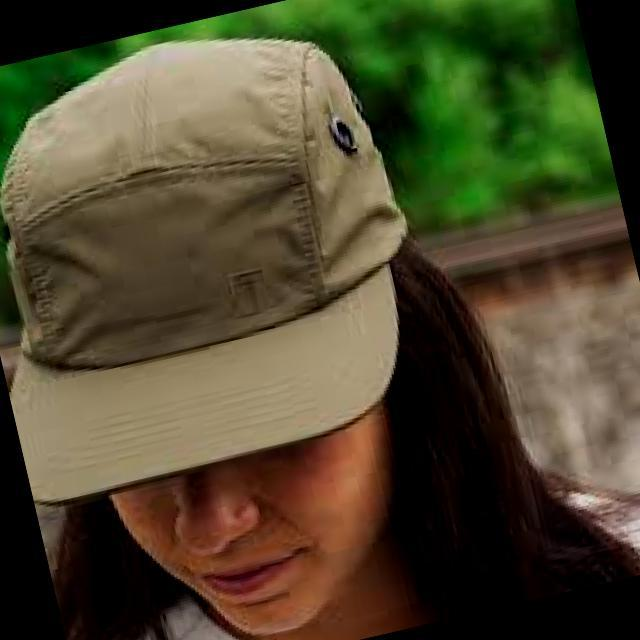cap: (0, 0, 490, 556)
